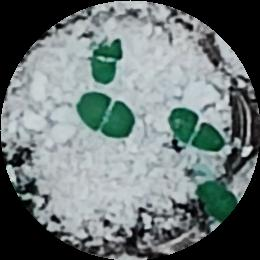Basil: (167, 104, 226, 155), (74, 94, 137, 137), (203, 181, 236, 231), (89, 37, 126, 81)
